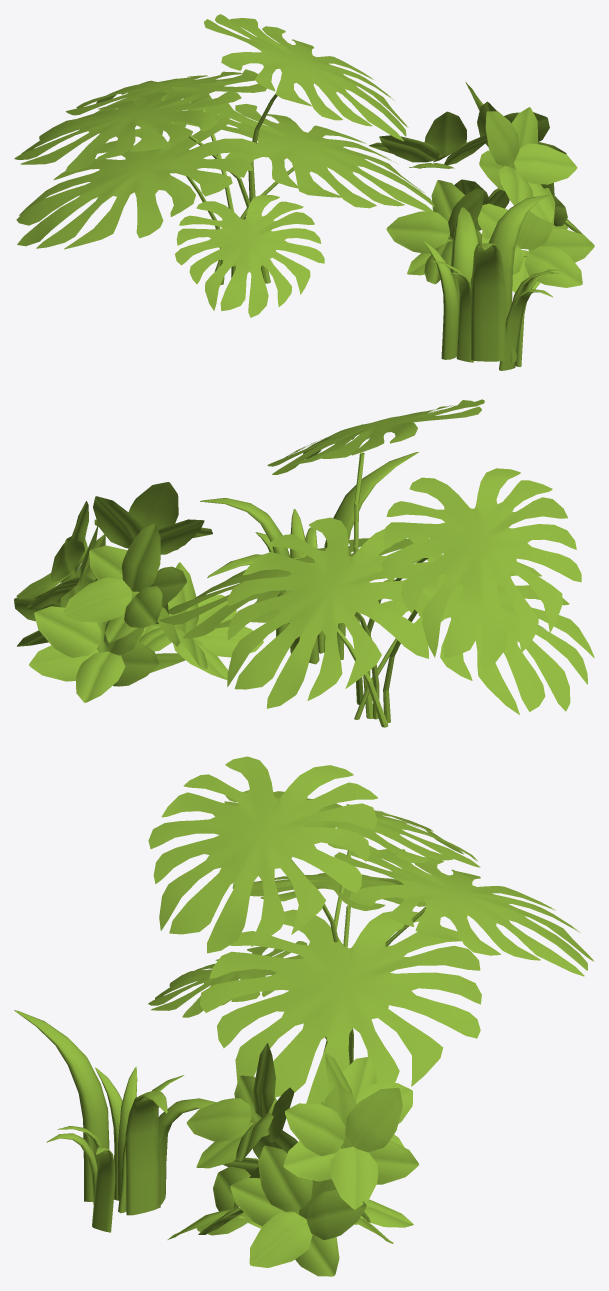
Rendered from myRoomIn3DPlants.fbx.
3 views of the same model, one above another, from view 1: azimuth 30°, elevation 25°; view 2: azimuth 150°, elevation 25°; view 3: azimuth 270°, elevation 25° (orthographic). The views are drawn at different scales.
Visible parts, largest first — view 1: Circle.111, Circle.050, Circle.004, Cube.138; view 2: Circle.111, Circle.050, Circle.004, Cube.138, Cube.139, Cube.140; view 3: Circle.111, Circle.050, Circle.004.
Part boxes in pixels (bbox=[...]): Circle.111: bbox=[14, 14, 435, 317]; Circle.050: bbox=[369, 82, 594, 292]; Circle.004: bbox=[423, 195, 560, 370]; Cube.138: bbox=[248, 94, 277, 283]; Circle.111: bbox=[159, 399, 594, 714]; Circle.050: bbox=[14, 482, 263, 702]; Circle.004: bbox=[200, 452, 418, 664]; Cube.138: bbox=[353, 452, 364, 704]; Cube.139: bbox=[337, 628, 388, 727]; Cube.140: bbox=[383, 610, 417, 722]; Circle.111: bbox=[148, 756, 593, 1104]; Circle.050: bbox=[167, 1043, 419, 1276]; Circle.004: bbox=[14, 1010, 216, 1232].
Bounding box in the file's own units: 252 × 144 × 216.
